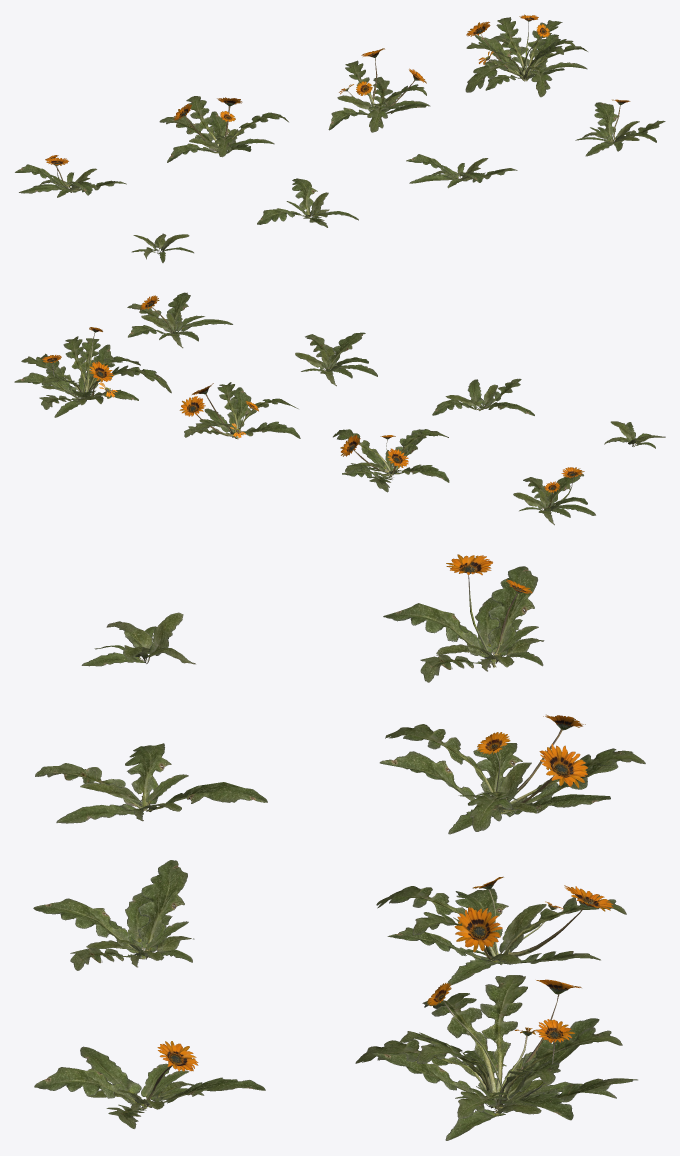
Rendered from flower_gazania.glb.
The picture shows the model from 3 angles, top to bottom: view 1: azimuth 30°, elevation 25°; view 2: azimuth 150°, elevation 25°; view 3: azimuth 270°, elevation 25°; orthographic projection. The views are drawn at different scales.
Visible parts, largest first — view 1: flower_gazania_h_LOD0, flower_gazania_f_LOD0, flower_gazania_g_LOD0, flower_gazania_d_LOD0, flower_gazania_e_LOD0, flower_gazania_b_LOD0, flower_gazania_c_LOD0, flower_gazania_a_LOD0; view 2: flower_gazania_h_LOD0, flower_gazania_g_LOD0, flower_gazania_f_LOD0, flower_gazania_d_LOD0, flower_gazania_e_LOD0, flower_gazania_c_LOD0, flower_gazania_b_LOD0, flower_gazania_a_LOD0; view 3: flower_gazania_h_LOD0, flower_gazania_f_LOD0, flower_gazania_g_LOD0, flower_gazania_e_LOD0, flower_gazania_c_LOD0, flower_gazania_d_LOD0, flower_gazania_b_LOD0, flower_gazania_a_LOD0.
Part boxes in pixels (x1,y1,x2,y2): flower_gazania_h_LOD0: (465, 14, 587, 97); flower_gazania_f_LOD0: (159, 96, 288, 162); flower_gazania_g_LOD0: (328, 48, 430, 132); flower_gazania_d_LOD0: (575, 99, 665, 156); flower_gazania_e_LOD0: (15, 155, 126, 197); flower_gazania_b_LOD0: (257, 178, 358, 227); flower_gazania_c_LOD0: (406, 154, 517, 188); flower_gazania_a_LOD0: (131, 233, 193, 262); flower_gazania_h_LOD0: (14, 327, 171, 417); flower_gazania_g_LOD0: (179, 382, 300, 439); flower_gazania_f_LOD0: (333, 429, 449, 492); flower_gazania_d_LOD0: (127, 292, 232, 348); flower_gazania_e_LOD0: (513, 467, 595, 525); flower_gazania_c_LOD0: (295, 332, 377, 386); flower_gazania_b_LOD0: (432, 378, 534, 415); flower_gazania_a_LOD0: (604, 421, 665, 448); flower_gazania_h_LOD0: (355, 975, 637, 1140); flower_gazania_f_LOD0: (379, 714, 645, 834); flower_gazania_g_LOD0: (376, 876, 626, 985); flower_gazania_e_LOD0: (383, 554, 544, 682); flower_gazania_c_LOD0: (33, 860, 194, 970); flower_gazania_d_LOD0: (34, 1041, 265, 1128); flower_gazania_b_LOD0: (35, 743, 267, 823); flower_gazania_a_LOD0: (81, 612, 195, 666).
Size of the model in its own units: 1.48 by 0.1655 by 0.7028.
1 material, 1 textured.
